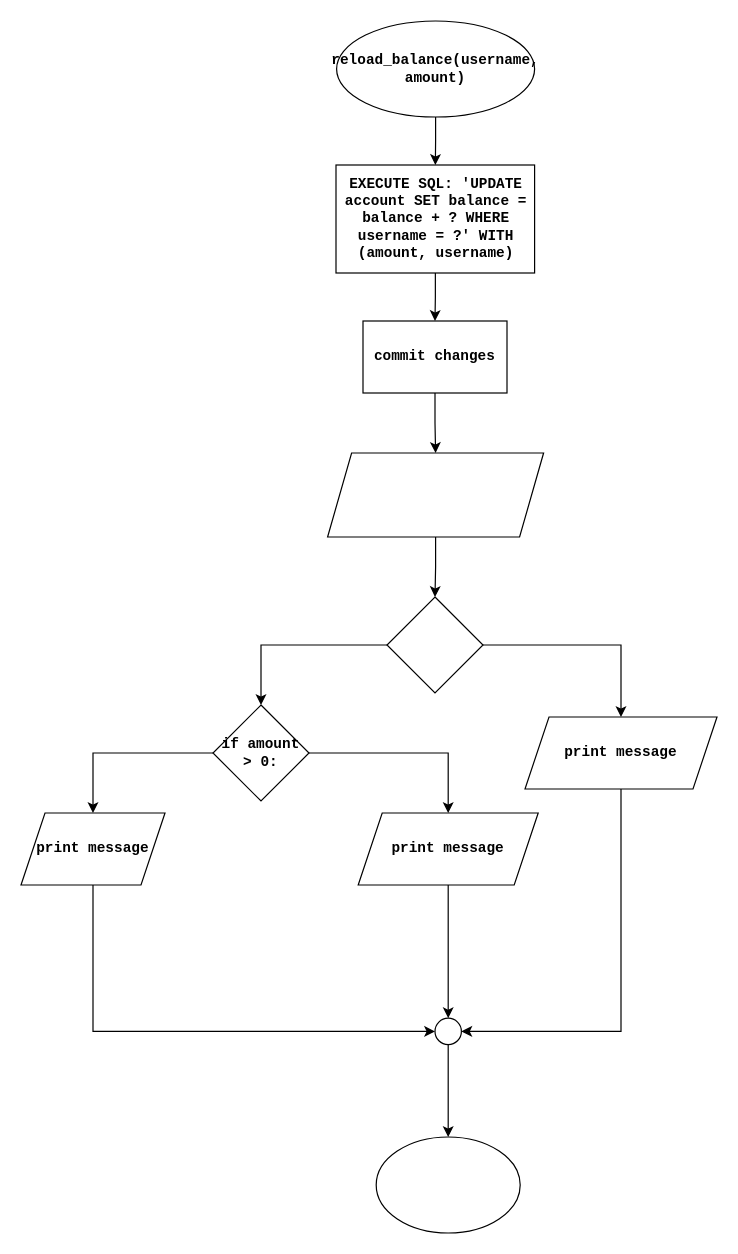
The diagram is 738 pixels wide and 1254 high, and some of its shapes have lost their labels. Here are the shapes that lost their labels. From the top down, the centre of each, then its label:
At (435,494): "print 'your balance has been reloaded by ' + amount".
At (434,644): "if amount > 50:".
At (447,1184): "EXIT".
